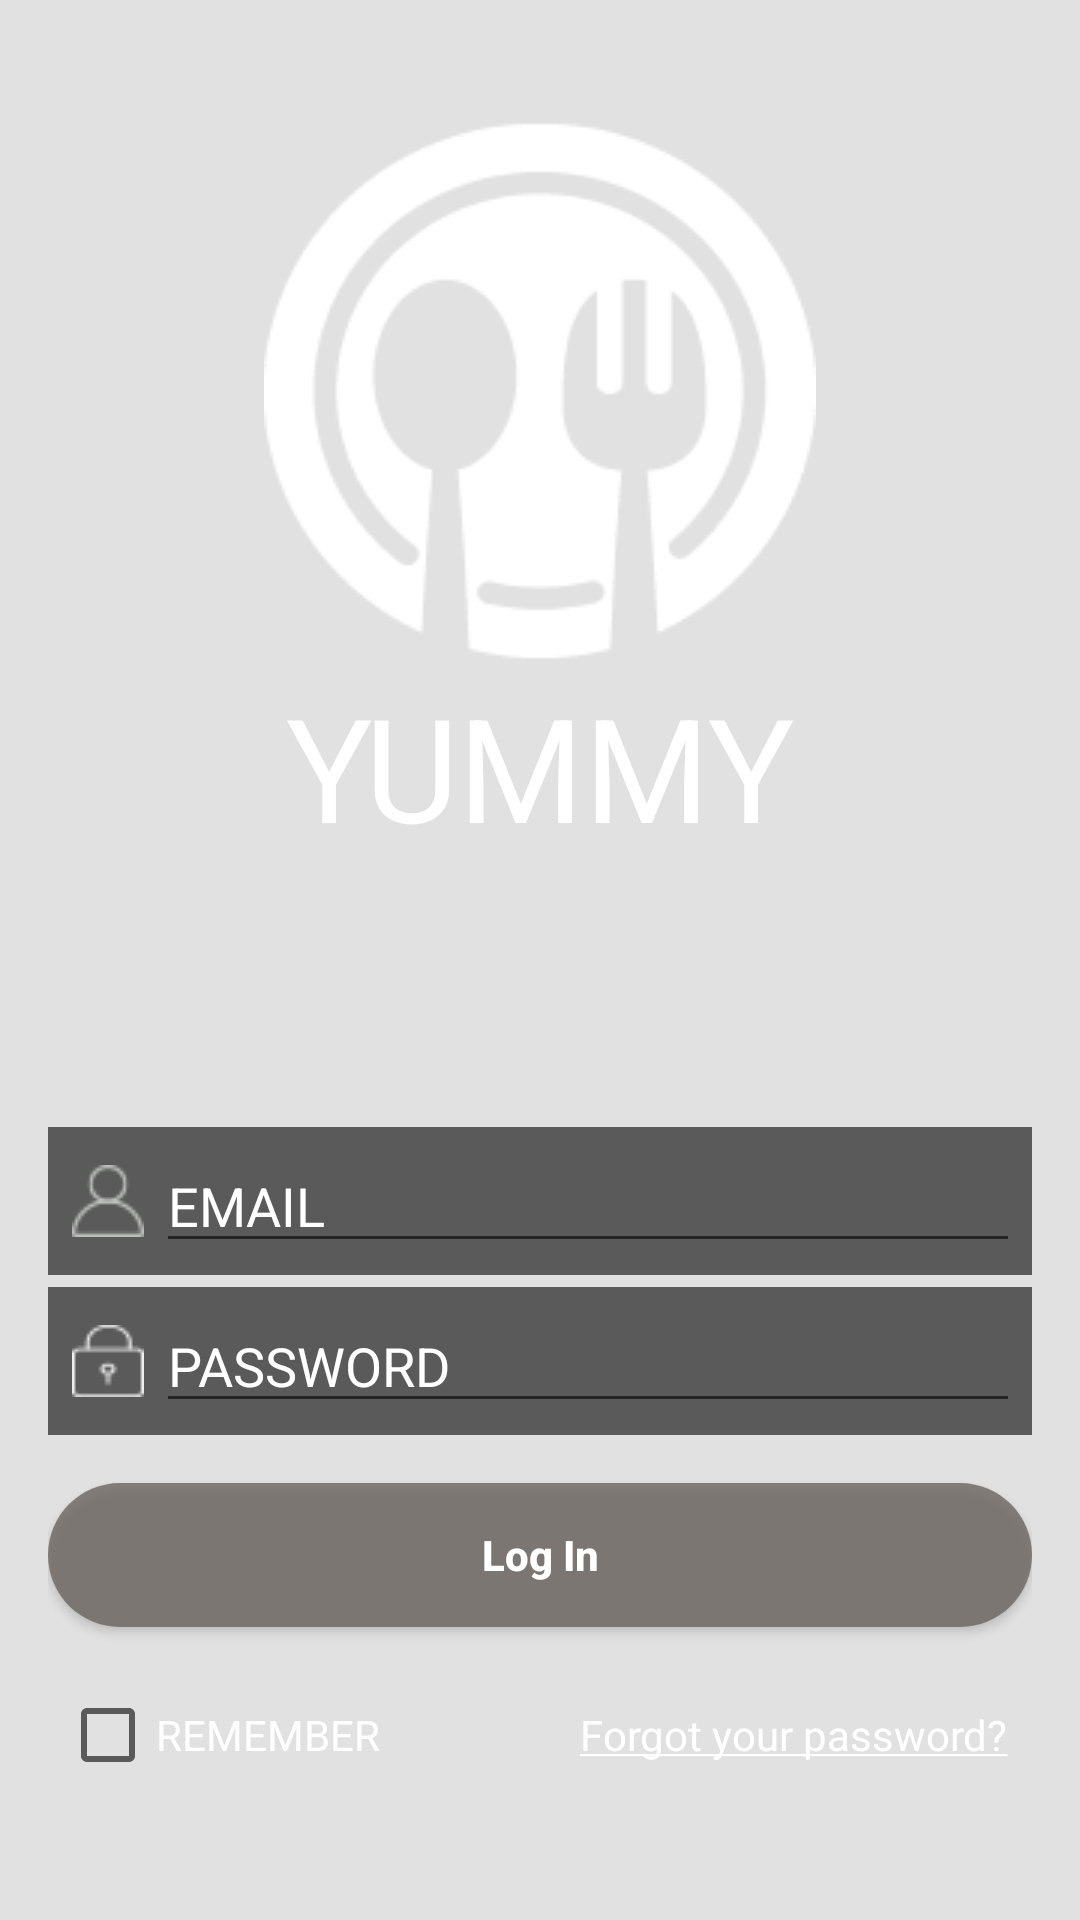

Icon bounding boxes for this 1080w x 1920h phone screenshot, format BBox(x1, y1, x2, y2):
lock: BBox(72, 1325, 144, 1397)
